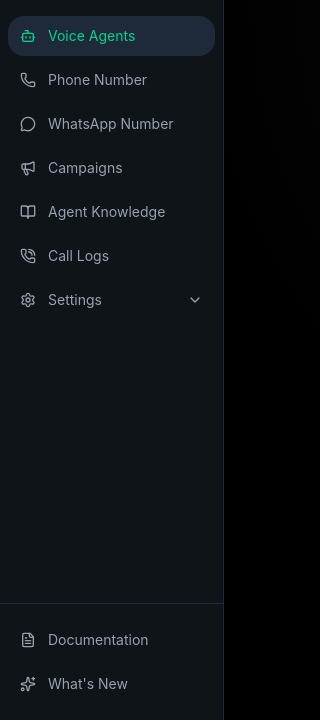
Scenario: DashboardSidebar › Settings Submenu › should collapse settings submenu when clicking Settings again
Click the button "Settings" at x=112, y=300, box top-left (8, 280), bottom-right (215, 320)
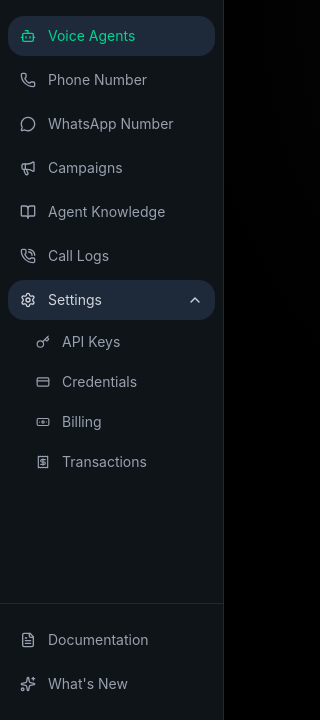
Expected: the text "API Keys" is shown, top-left (62, 332), bottom-right (120, 352)
Click the button "Settings" at x=112, y=300, box top-left (8, 280), bottom-right (215, 320)
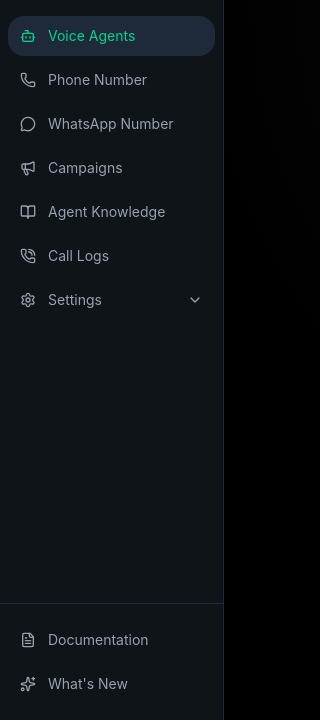
Expected: the button "API Keys" is gone
